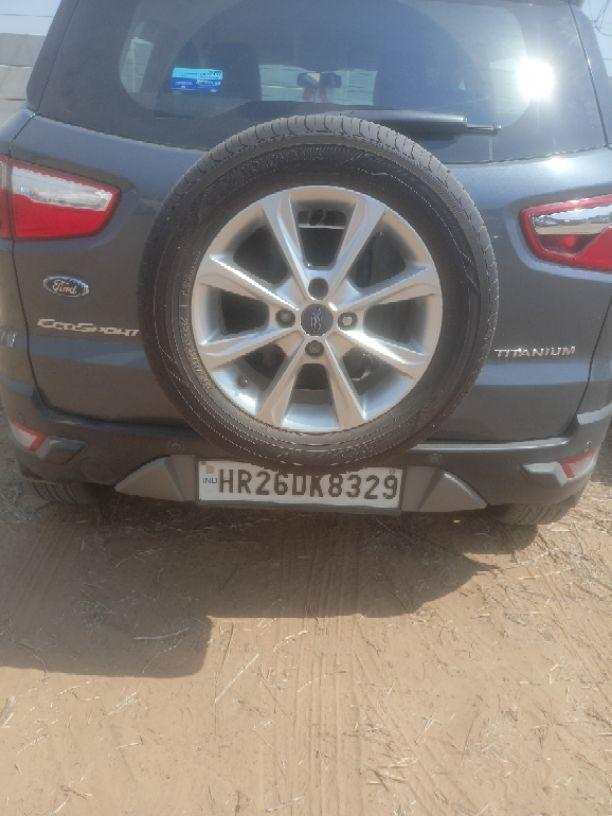license_plate: (194, 458, 405, 515)
